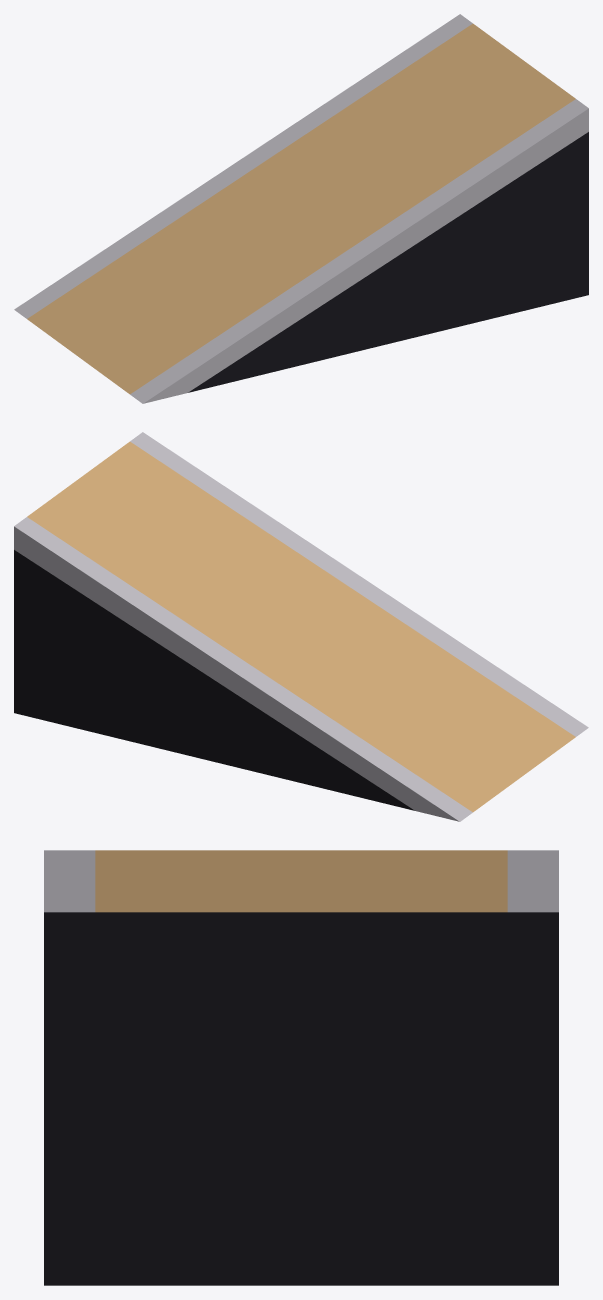
The model's file is Ramp_Half_4_Both.fbx.
3 renders of one model, top to bottom at view 1: azimuth 30°, elevation 25°; view 2: azimuth 150°, elevation 25°; view 3: azimuth 270°, elevation 25°, orthographic. The views are drawn at different scales.
Visible parts, largest first — view 1: Ramp_Half_4_Both; view 2: Ramp_Half_4_Both; view 3: Ramp_Half_4_Both.
Part boxes in pixels (x1,y1,x2,y2): Ramp_Half_4_Both: (14, 14, 588, 403); Ramp_Half_4_Both: (14, 432, 588, 821); Ramp_Half_4_Both: (44, 850, 558, 1285).
Bounding box in the file's own units: 10 × 4 × 5.
